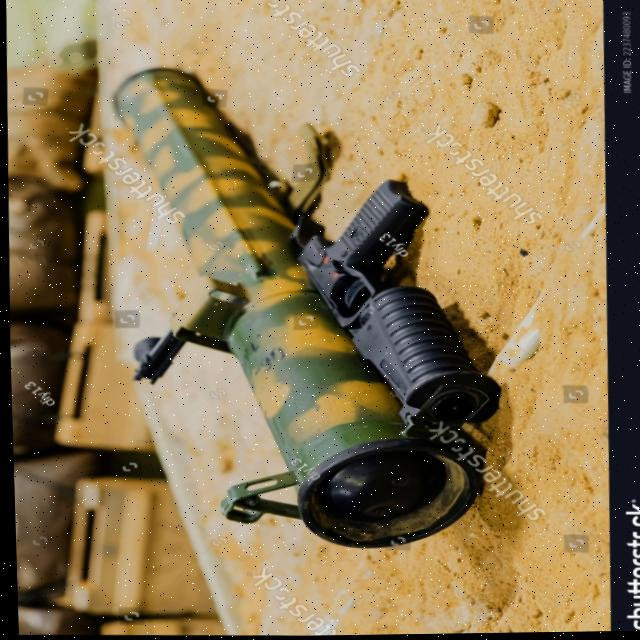rocket: (101, 59, 510, 558)
